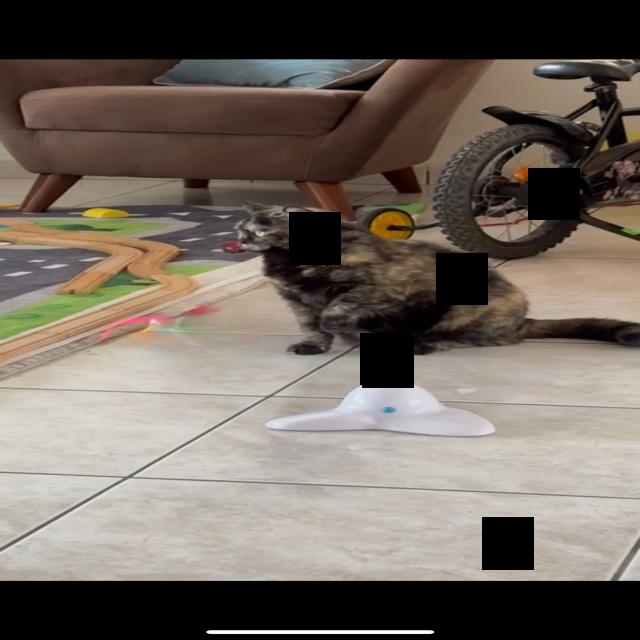authorized: (222, 200, 639, 356)
